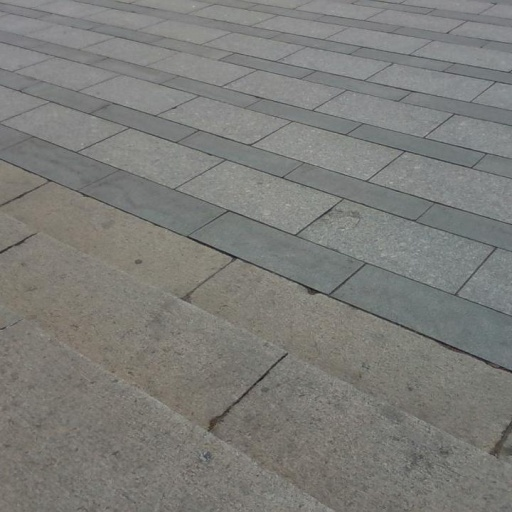Stairs: (0, 214, 512, 512)
